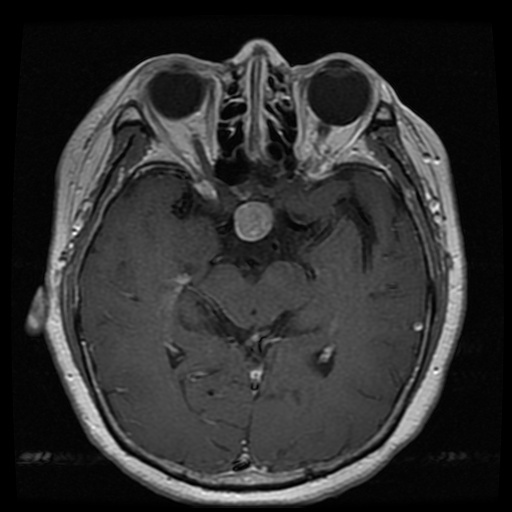pituitary: (234, 200, 273, 240)
